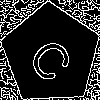C: (26, 29, 82, 87)
